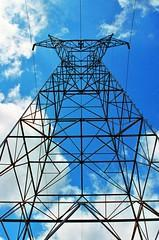power_tower: (0, 32, 159, 240)
